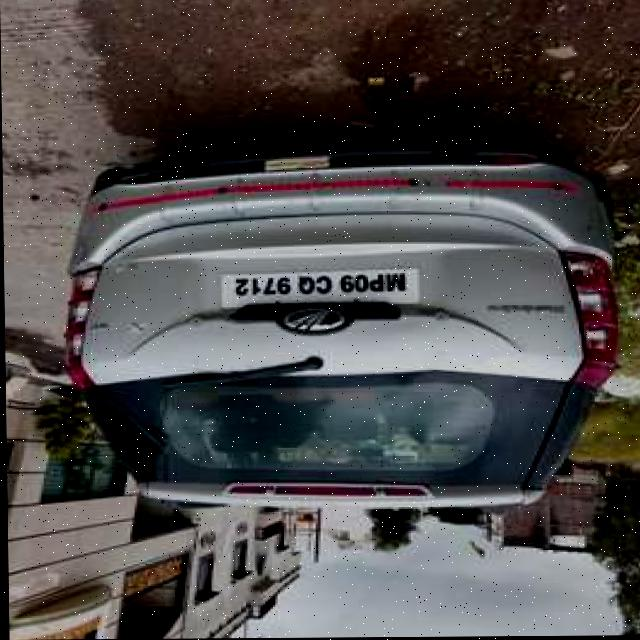plate: (219, 268, 419, 306)
